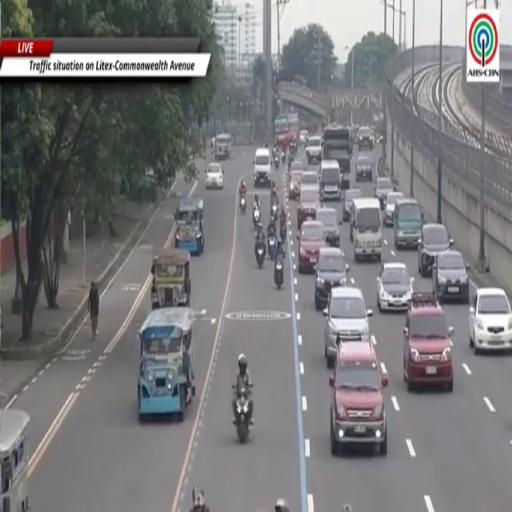car: (330, 343, 388, 455), (403, 292, 453, 391), (323, 287, 372, 367), (469, 287, 511, 354), (315, 248, 349, 310), (433, 250, 469, 303), (418, 223, 453, 277), (377, 262, 414, 311), (297, 221, 326, 273), (297, 184, 320, 228), (316, 207, 341, 247), (384, 191, 404, 227), (343, 188, 362, 221), (375, 178, 395, 209), (355, 155, 373, 182), (206, 163, 223, 188), (306, 137, 321, 165), (357, 127, 374, 151), (301, 171, 319, 193), (289, 171, 302, 200), (288, 160, 306, 177), (300, 131, 308, 146)
jeepney: (138, 308, 195, 421), (0, 409, 29, 511), (151, 248, 190, 309), (175, 198, 204, 255), (215, 134, 232, 161)
motorcycle: (234, 389, 251, 443), (274, 258, 283, 289), (268, 234, 276, 259), (256, 244, 264, 268), (280, 223, 287, 243), (253, 208, 260, 228), (270, 203, 278, 218), (240, 196, 246, 213), (274, 155, 279, 169), (282, 152, 285, 164)
truck: (322, 124, 351, 189), (274, 114, 299, 150), (274, 115, 289, 150), (288, 114, 299, 143)
